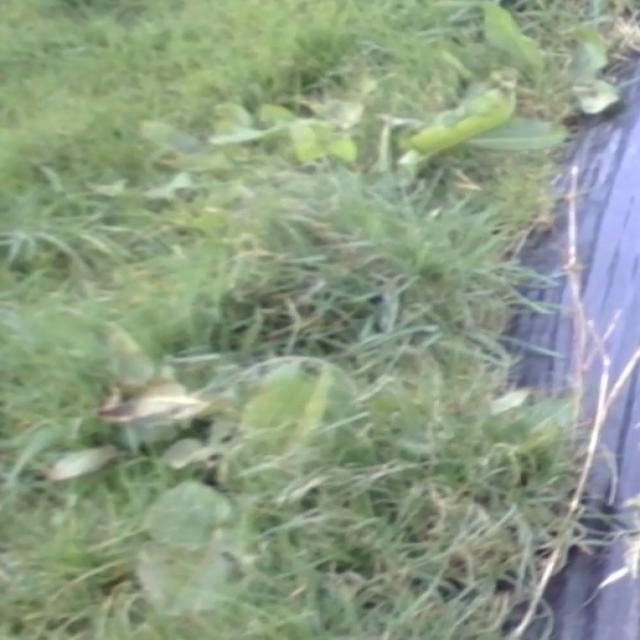organic waste: (27, 318, 371, 600), (150, 80, 598, 213), (380, 2, 640, 121)
